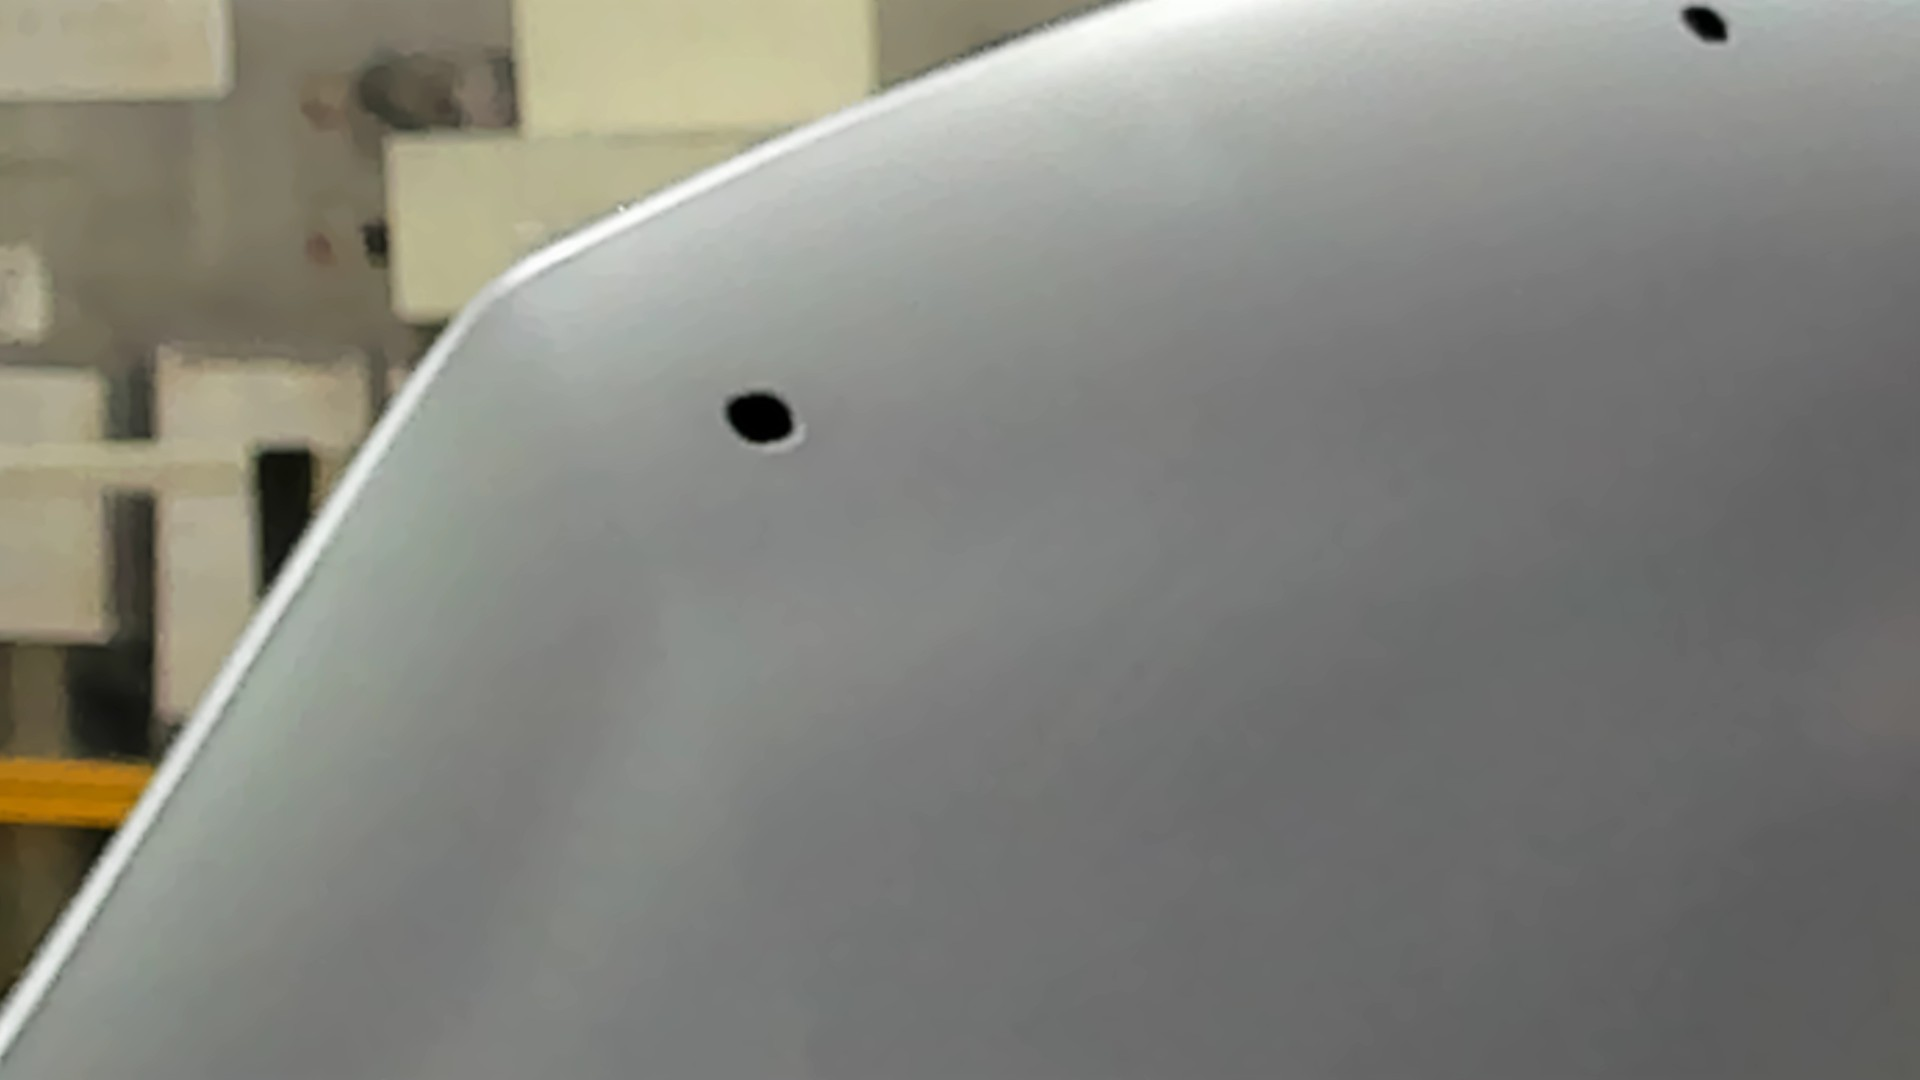amorfo: (716, 386, 806, 448), (1677, 3, 1735, 53)
